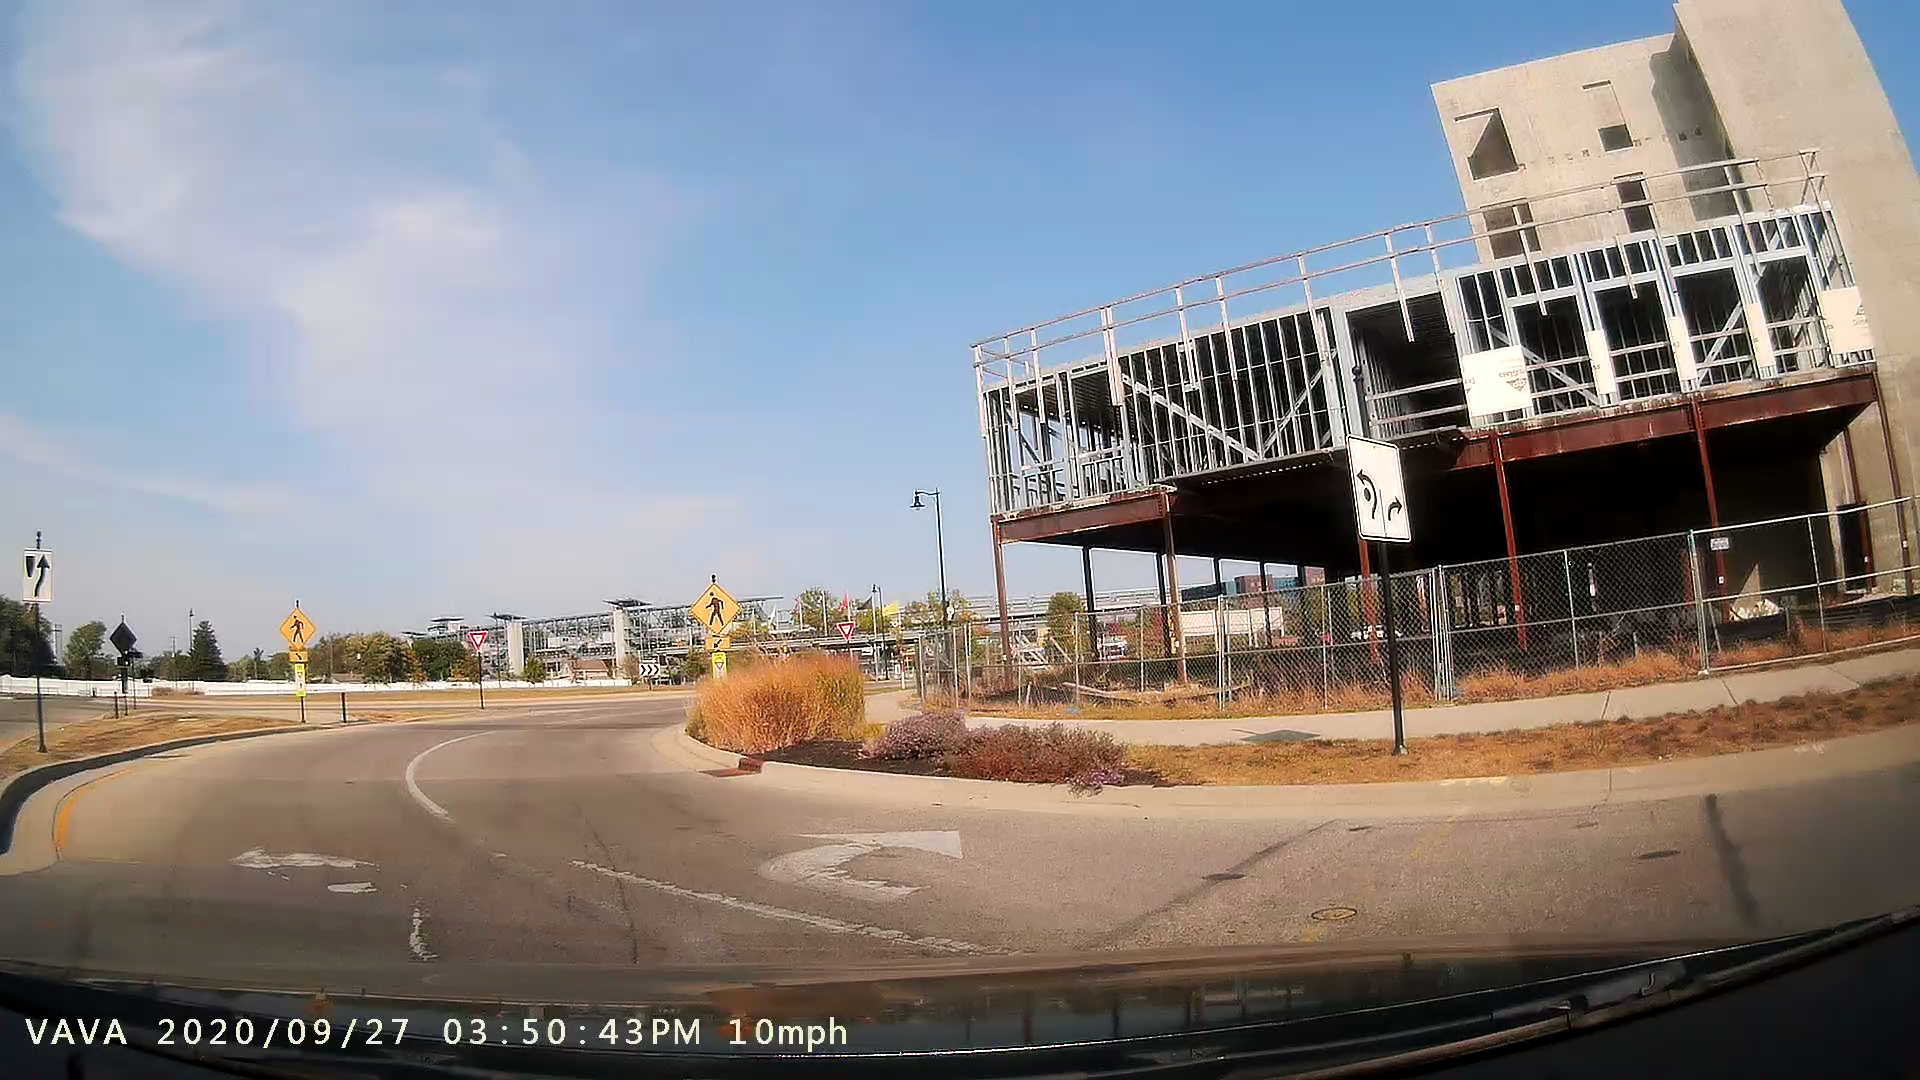right_turn: (736, 808, 978, 905)
